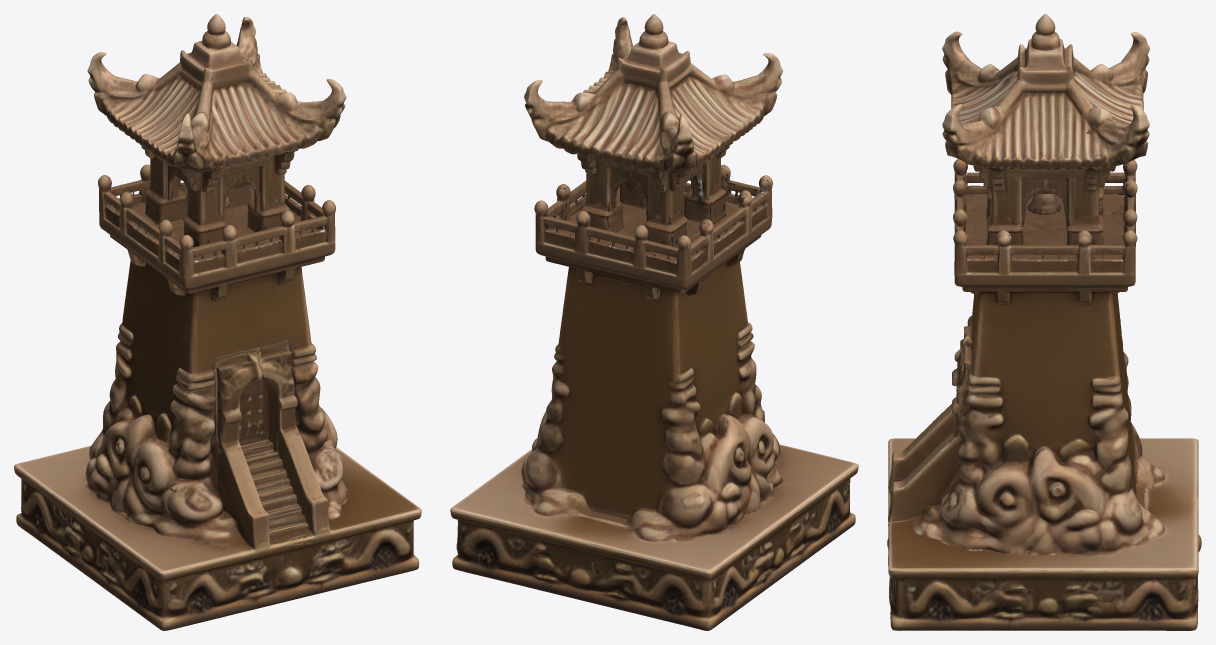
File: rook.glb
3 views of the same model, side by side, from view 1: azimuth 30°, elevation 25°; view 2: azimuth 150°, elevation 25°; view 3: azimuth 270°, elevation 25° (orthographic). The views are drawn at different scales.
Parts seen in each view (by area): view 1: model; view 2: model; view 3: model.
Part boxes in pixels (<box>): model: <box>14,14,421,630</box>; model: <box>450,14,858,630</box>; model: <box>887,14,1201,630</box>.
Bounding box in the file's own units: 0.9777 × 1.9 × 0.9793.
Materials: 1 (1 with a texture image).
